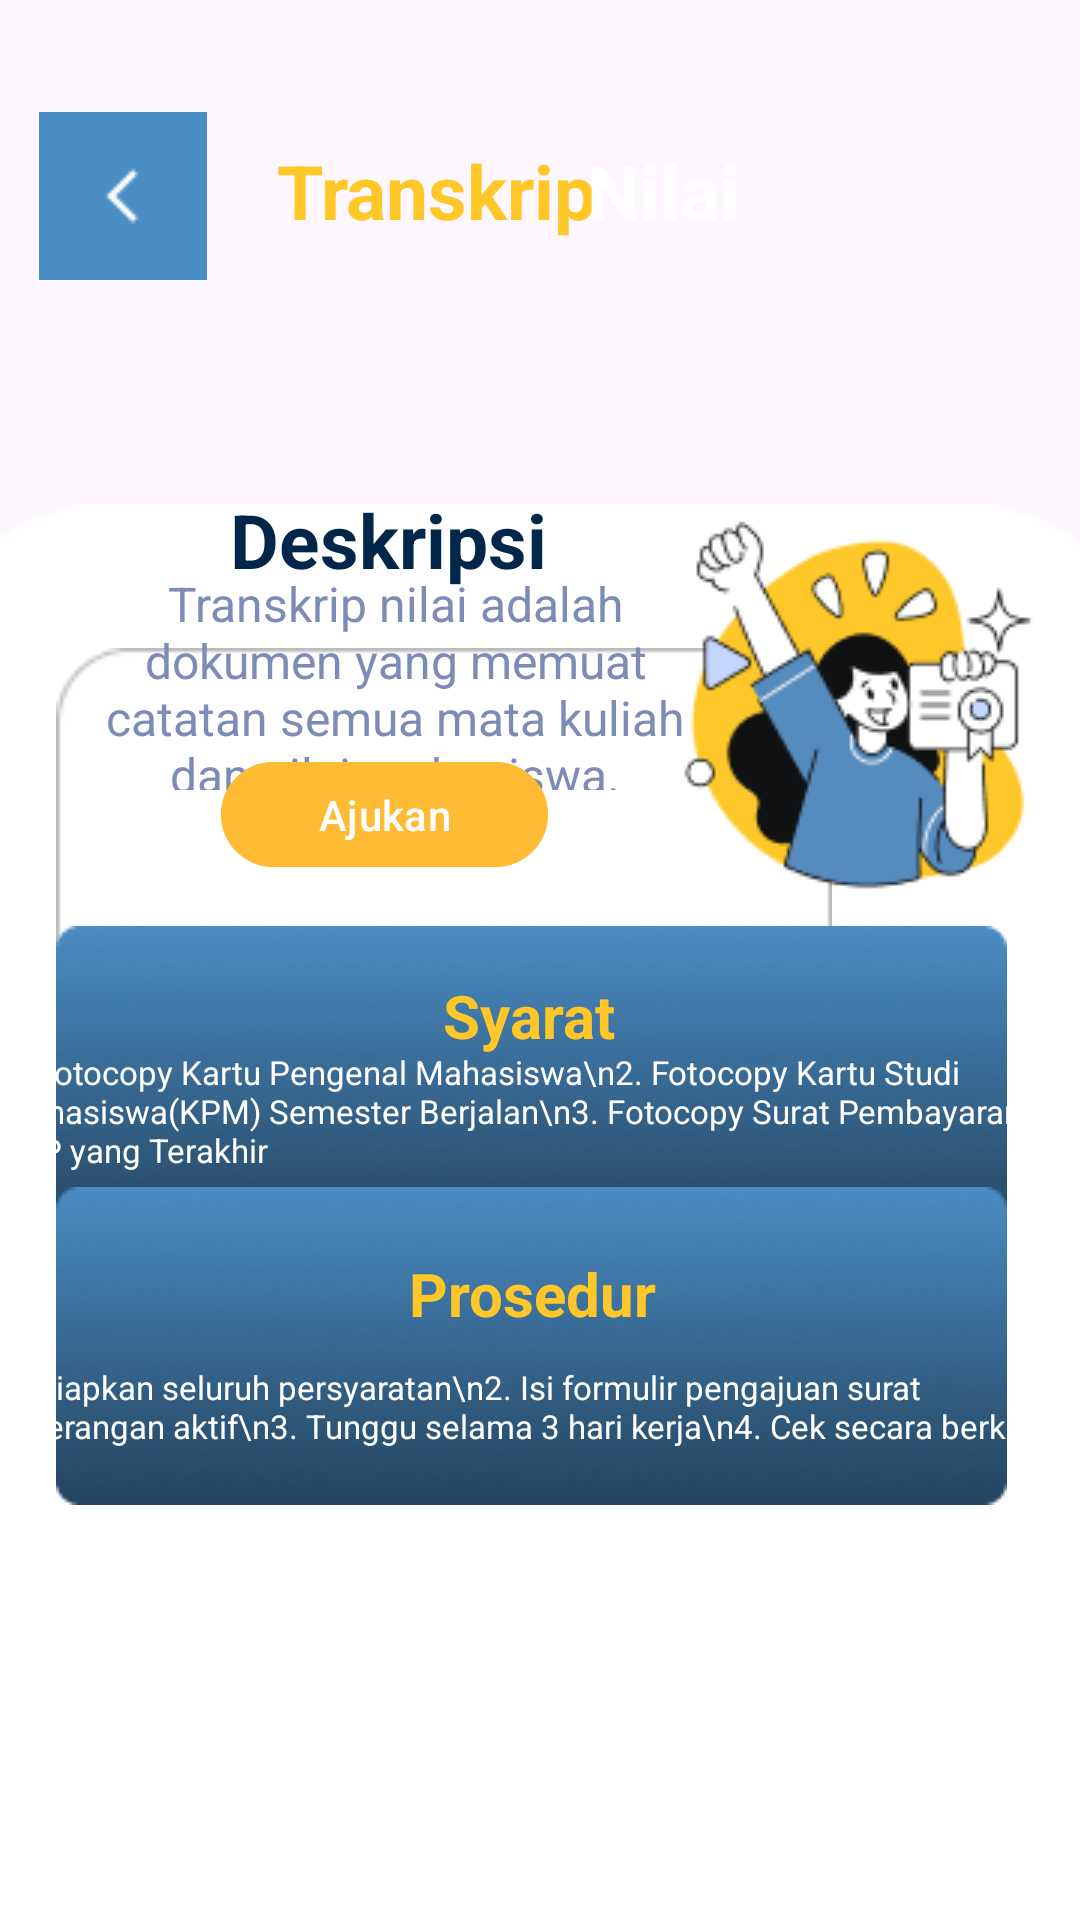

Icon click points for this 1080x1920 phone screenshot, format point (x, y):
back: point (123, 196)
